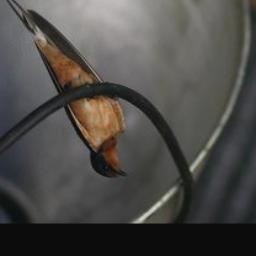Swallow: (0, 0, 133, 183)
